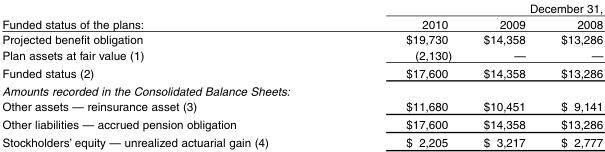table: (0, 1, 602, 149)
table column: (0, 1, 336, 149), (336, 1, 466, 149), (466, 1, 542, 149), (542, 1, 602, 149)
table column header: (0, 1, 602, 31)
table projected row header: (0, 81, 602, 98)
table row: (0, 63, 602, 81), (0, 115, 602, 133), (0, 46, 602, 63), (0, 81, 602, 98), (0, 98, 602, 115), (0, 15, 602, 31), (0, 133, 602, 149), (0, 31, 602, 46), (0, 1, 602, 15)
table spanning cell: (0, 1, 336, 31), (336, 1, 602, 15)
